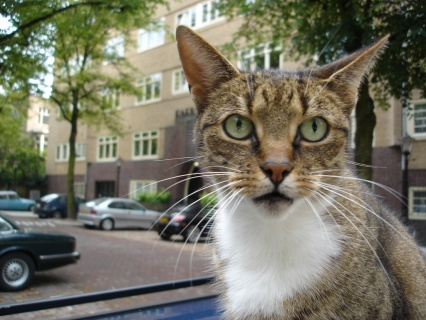Cat: (119, 25, 426, 319)
